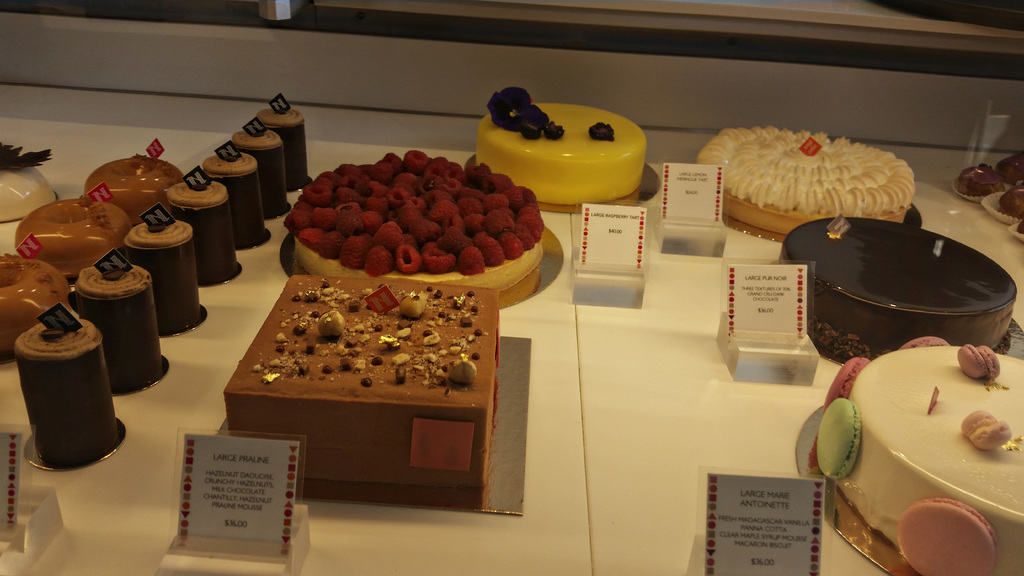cake: (225, 273, 497, 512), (808, 335, 1023, 575), (280, 151, 544, 308), (778, 216, 1018, 361), (694, 125, 916, 246), (474, 88, 649, 209)
